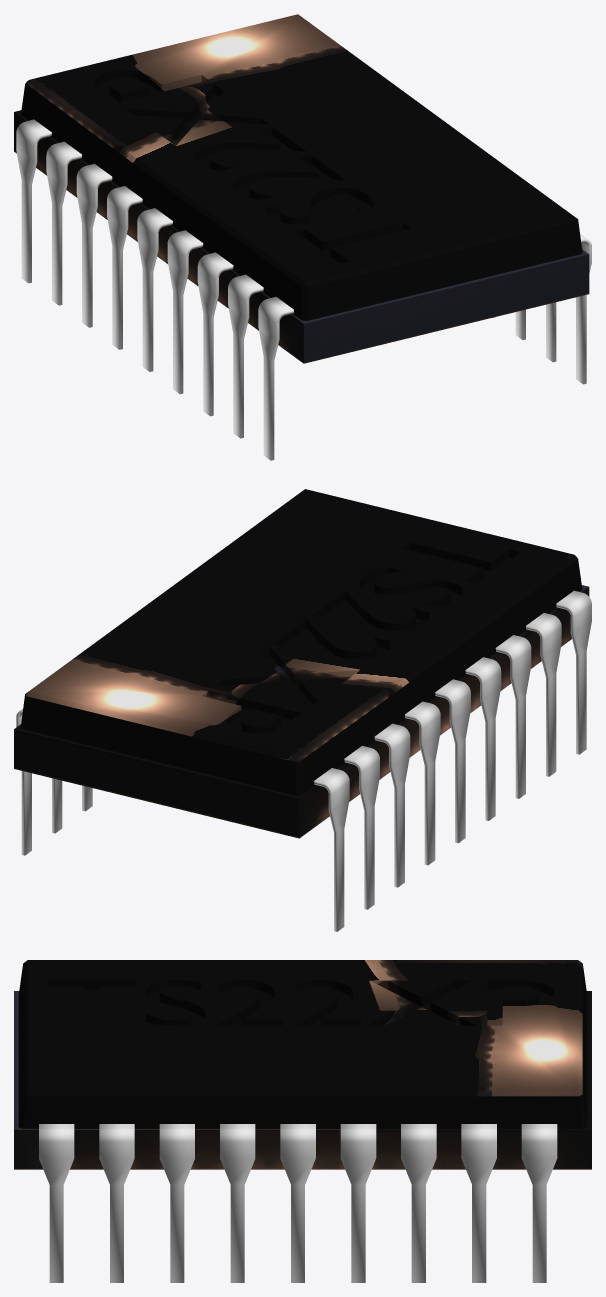
File: MicrochipGLTF.glb
3 renders of one model, top to bottom at view 1: azimuth 30°, elevation 25°; view 2: azimuth 150°, elevation 25°; view 3: azimuth 270°, elevation 25°, orthographic.
Parts seen in each view (by area): view 1: Cube.003, Plane.002, Cube.002; view 2: Cube.003, Plane.002, Cube.002; view 3: Cube.003, Plane.002, Cube.002.
Boxes of the visible parts, <box> form: Cube.003: <box>21,14,582,320</box>; Plane.002: <box>16,119,591,460</box>; Cube.002: <box>14,110,589,363</box>; Cube.003: <box>21,489,582,795</box>; Plane.002: <box>16,590,591,931</box>; Cube.002: <box>14,585,589,838</box>; Cube.003: <box>19,960,586,1128</box>; Plane.002: <box>39,1124,557,1282</box>; Cube.002: <box>14,991,591,1169</box>.
Bounding box in the file's own units: 1.83 × 1 × 2.92.
Materials: 1 (1 with a texture image).
